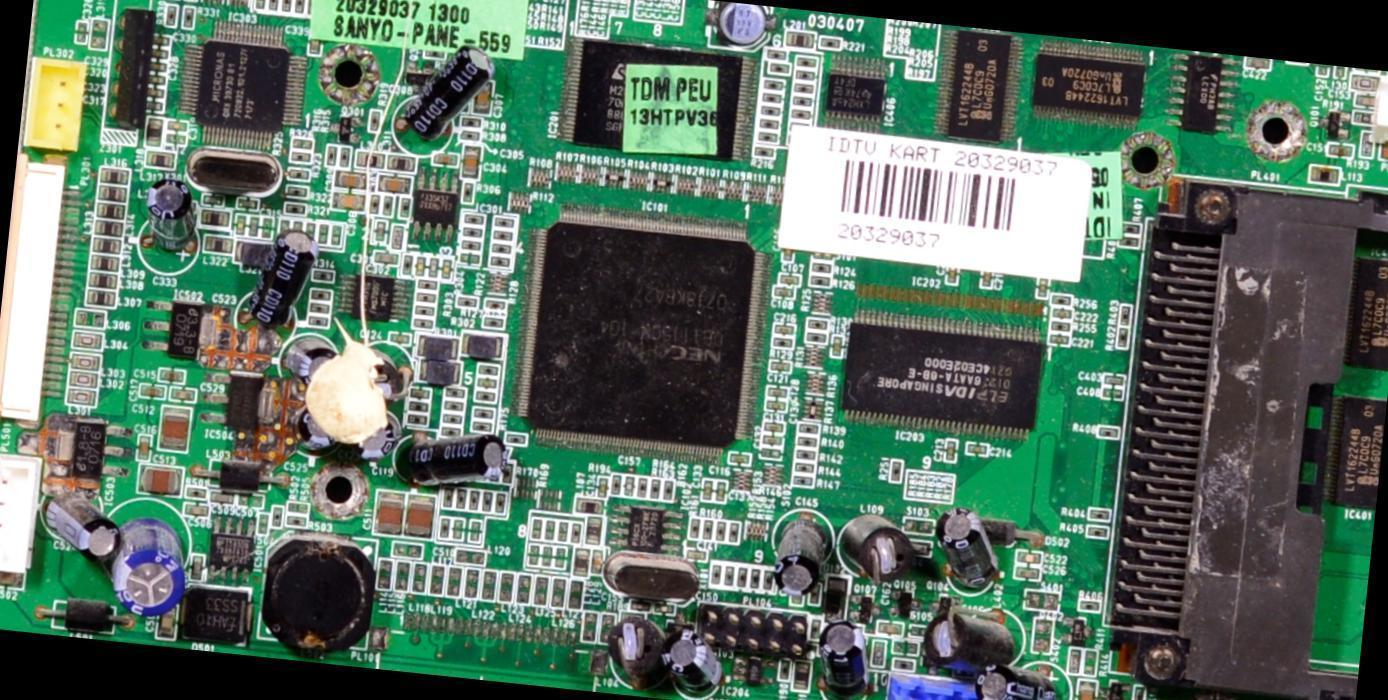Capacitor: (403, 494, 431, 537), (378, 492, 402, 534), (161, 410, 188, 447), (144, 466, 178, 494), (458, 144, 475, 178), (329, 194, 364, 209), (1073, 679, 1098, 699), (874, 619, 903, 636), (1014, 567, 1044, 583), (338, 173, 366, 189), (138, 383, 167, 398), (157, 367, 182, 384), (944, 439, 959, 466), (169, 387, 197, 401), (1050, 307, 1077, 321), (475, 88, 489, 113), (183, 507, 209, 520), (1244, 56, 1268, 70), (373, 254, 398, 267), (440, 256, 452, 283), (140, 434, 152, 461), (380, 179, 403, 193), (1050, 332, 1071, 347), (1017, 551, 1043, 563), (871, 641, 884, 664), (211, 492, 235, 504), (1327, 146, 1349, 159), (970, 442, 989, 457), (781, 272, 801, 286), (240, 494, 263, 506), (1101, 386, 1120, 400), (701, 479, 713, 501), (770, 386, 790, 399), (729, 455, 752, 466), (830, 336, 842, 357), (654, 602, 675, 614), (624, 476, 636, 496), (158, 618, 171, 636), (1103, 373, 1124, 384), (1352, 79, 1373, 90), (718, 479, 728, 502), (435, 151, 451, 165), (235, 216, 245, 238), (773, 326, 795, 336), (761, 449, 781, 460), (428, 257, 438, 278), (392, 332, 411, 343), (767, 401, 786, 412), (1316, 64, 1329, 80), (772, 285, 789, 297), (765, 424, 785, 434), (591, 552, 602, 570), (1354, 99, 1376, 108), (153, 47, 172, 57), (416, 257, 425, 278), (596, 476, 605, 497), (0, 572, 11, 589), (784, 249, 796, 264), (768, 360, 786, 370), (763, 438, 782, 447), (632, 600, 646, 612), (168, 119, 184, 129), (148, 98, 162, 109), (78, 24, 87, 41), (688, 550, 706, 558), (155, 35, 170, 44), (153, 59, 166, 69), (151, 73, 164, 83), (151, 86, 164, 94)
Connector: (0, 154, 81, 439), (0, 435, 67, 616), (22, 41, 98, 157)
IC: (543, 225, 746, 447), (565, 39, 739, 159), (844, 319, 1019, 424), (1028, 40, 1136, 121), (202, 44, 284, 132), (1327, 398, 1386, 506), (956, 34, 1013, 132), (1348, 262, 1387, 361), (829, 64, 895, 122), (51, 417, 104, 486), (1180, 52, 1223, 127), (350, 275, 395, 318), (622, 508, 665, 552), (416, 192, 458, 232), (212, 531, 250, 569), (172, 301, 194, 353), (747, 659, 761, 685)
Resistor: (710, 562, 724, 585), (468, 487, 481, 511), (182, 6, 196, 28), (892, 457, 903, 484), (764, 77, 785, 91), (185, 485, 206, 499), (818, 37, 839, 51), (288, 501, 310, 514), (1083, 650, 1094, 675), (366, 110, 379, 131), (395, 200, 408, 221), (663, 480, 674, 504), (464, 181, 475, 204), (1078, 600, 1101, 611), (776, 659, 787, 682), (1114, 329, 1126, 350), (463, 115, 482, 128), (474, 410, 493, 423), (458, 253, 480, 264), (738, 565, 749, 587), (1088, 507, 1108, 519), (439, 518, 451, 538), (1049, 294, 1070, 305), (484, 493, 495, 514), (795, 476, 818, 486), (765, 569, 775, 592), (290, 136, 309, 148), (799, 448, 818, 460), (367, 194, 378, 214), (415, 304, 435, 315), (486, 298, 504, 310), (1132, 681, 1144, 699), (1355, 110, 1373, 122), (380, 197, 390, 218), (464, 237, 483, 248), (272, 505, 283, 524), (769, 62, 788, 73), (726, 522, 736, 542), (163, 4, 172, 26), (763, 90, 781, 101), (473, 420, 491, 431), (609, 474, 620, 492), (258, 512, 269, 530), (289, 199, 305, 211), (310, 313, 326, 325), (411, 400, 430, 410), (410, 418, 429, 428), (443, 488, 453, 507), (894, 658, 913, 668), (811, 277, 828, 288), (1361, 136, 1369, 159), (1098, 427, 1118, 436), (799, 437, 817, 447), (446, 424, 461, 436), (637, 477, 646, 497), (291, 514, 306, 526), (761, 131, 777, 142), (493, 217, 509, 228), (288, 185, 307, 194), (497, 496, 506, 515), (289, 168, 306, 178), (309, 303, 326, 313), (752, 570, 762, 587), (768, 51, 785, 61), (292, 0, 305, 13), (457, 486, 464, 510), (1072, 650, 1080, 671), (280, 0, 292, 14), (497, 255, 512, 266), (1121, 306, 1130, 324), (1088, 528, 1106, 537), (773, 339, 789, 349), (411, 388, 427, 398), (268, 0, 279, 14), (325, 149, 334, 166), (404, 255, 413, 272), (808, 317, 825, 326), (314, 272, 331, 281), (458, 131, 477, 139), (416, 318, 435, 326), (688, 517, 696, 536), (725, 564, 733, 583), (763, 116, 778, 126), (650, 480, 659, 496), (811, 585, 820, 601), (481, 365, 495, 375), (794, 72, 811, 80), (495, 244, 512, 252), (478, 395, 493, 404), (802, 57, 815, 67), (480, 318, 496, 326), (795, 94, 809, 103), (756, 151, 774, 158), (813, 263, 827, 272), (508, 433, 522, 442), (467, 215, 482, 223), (419, 286, 434, 294), (312, 289, 327, 297), (480, 379, 495, 387), (715, 521, 721, 541), (293, 154, 309, 161), (809, 333, 825, 340), (458, 296, 472, 304), (803, 424, 817, 432), (796, 463, 812, 470), (256, 0, 267, 10), (464, 229, 479, 236), (445, 413, 458, 421), (765, 106, 779, 113), (794, 109, 806, 117), (500, 231, 512, 239), (798, 85, 811, 92), (341, 150, 347, 165), (451, 391, 462, 399), (450, 405, 461, 413), (704, 522, 709, 538), (422, 297, 433, 304)
